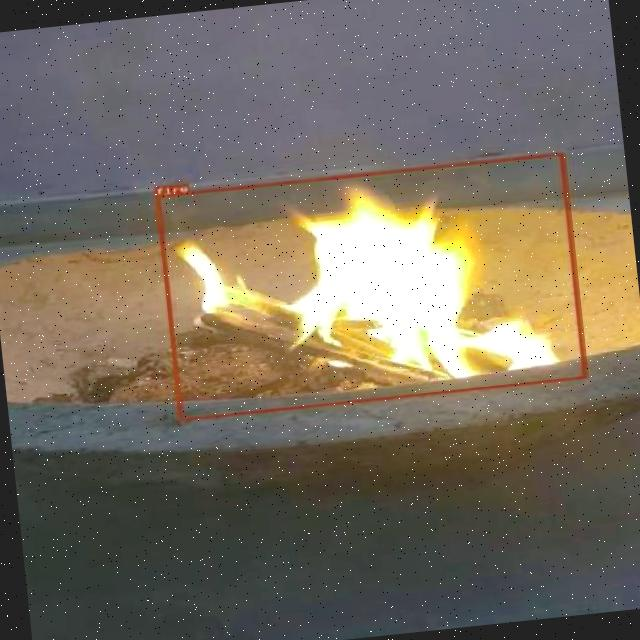fire: (153, 151, 586, 421)
